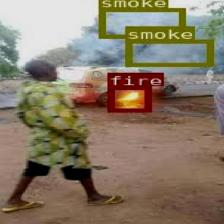fire: (106, 86, 150, 111)
smoke: (97, 8, 184, 38), (124, 39, 212, 66)
